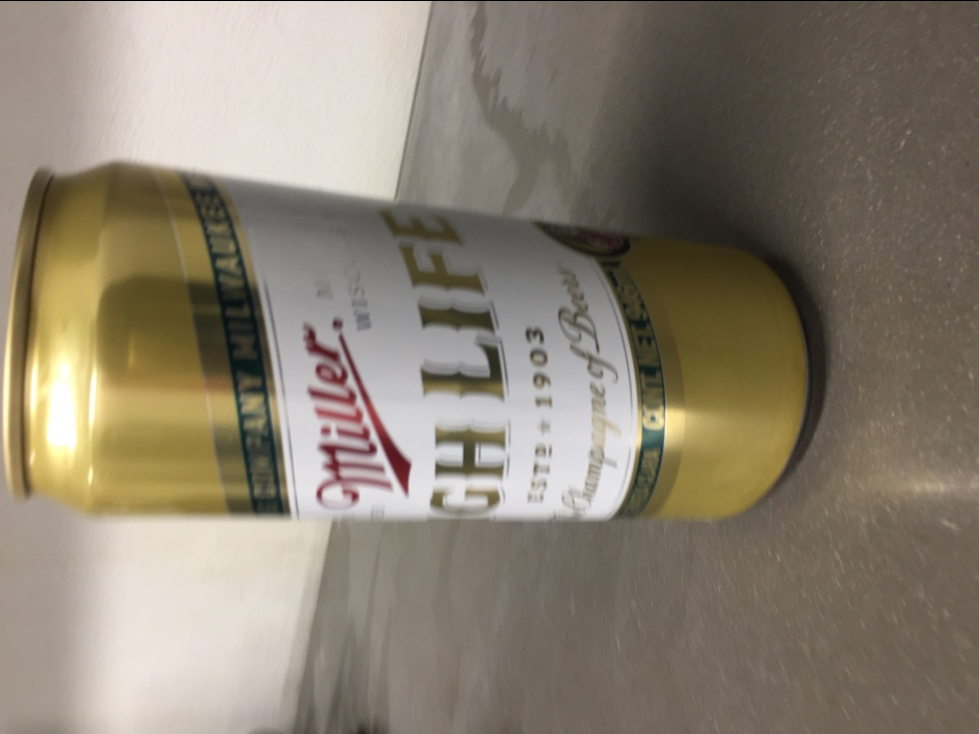miller: (2, 160, 814, 528)
